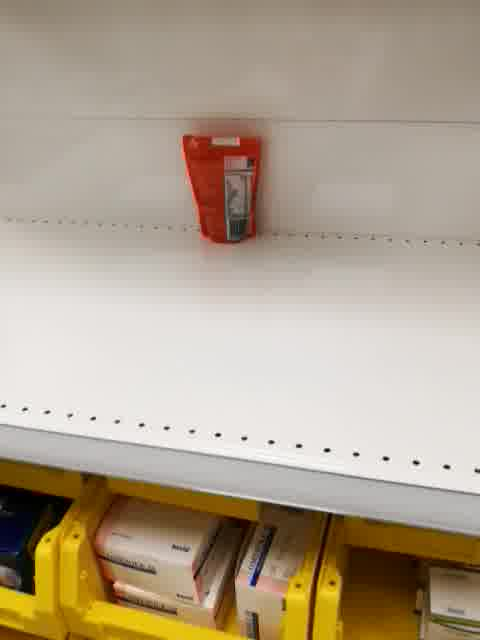whitechia: (179, 132, 266, 246)
